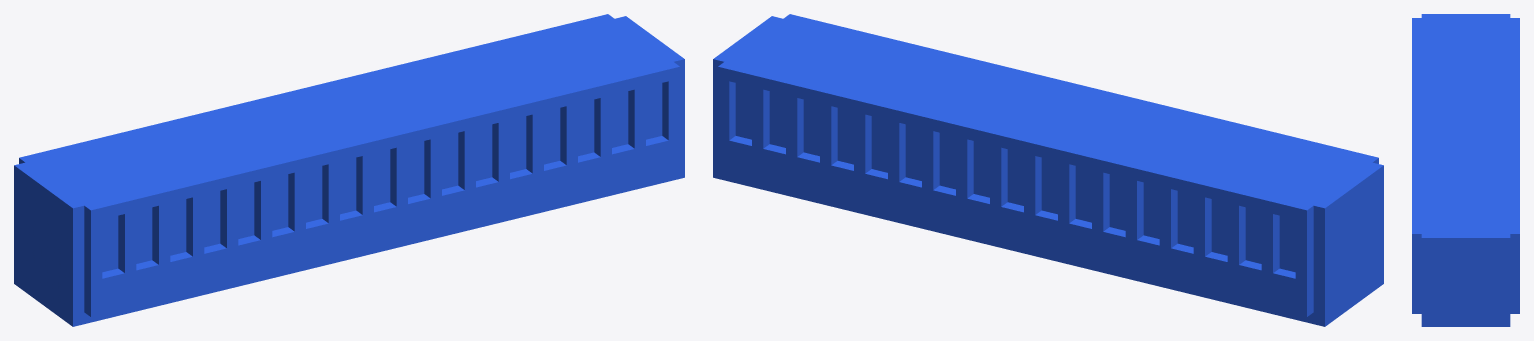
Rendered from normal car.gltf.
The picture shows the model from 3 angles, left to right: view 1: azimuth 30°, elevation 25°; view 2: azimuth 150°, elevation 25°; view 3: azimuth 270°, elevation 25°; orthographic projection. The views are drawn at different scales.
Parts seen in each view (by area): view 1: normal; view 2: normal; view 3: normal.
Boxes of the visible parts, box(x1,y1,x2,y2) form: normal: box(14, 14, 684, 326); normal: box(713, 14, 1383, 326); normal: box(1412, 14, 1519, 326).
Size of the model in its own units: 54 by 10 by 11.
1 material, 1 textured.
